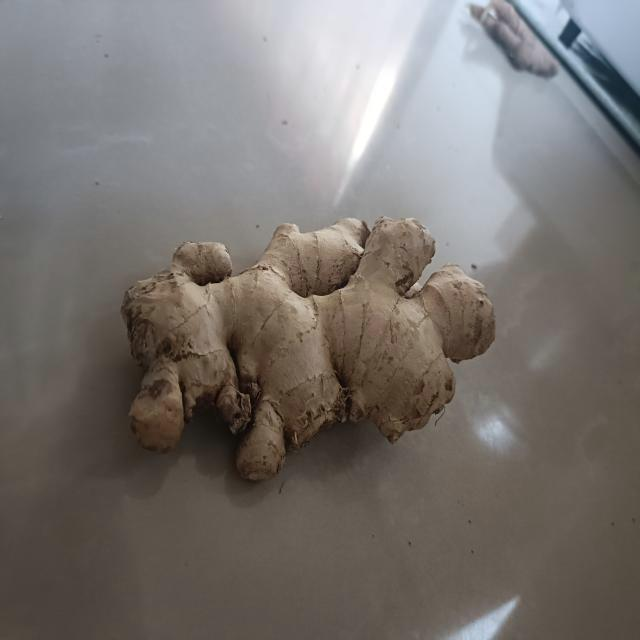ginger: (111, 212, 502, 488)
